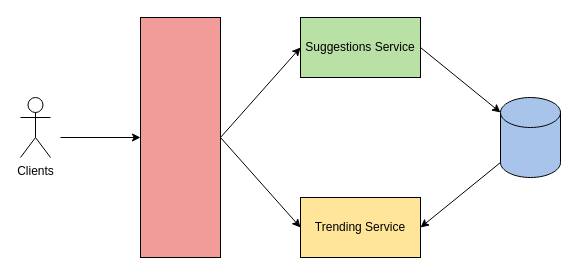
This 578x275 diagram has some shape labels left out. Here are the shapes that lost their labels. From the top down, the box of each, then its label:
(140, 16, 220, 258): API Gateway
(500, 96, 560, 178): DB
